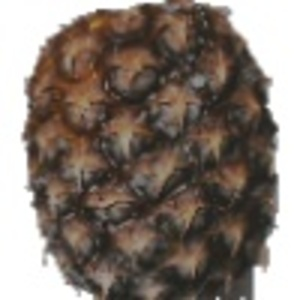abacaxi: (18, 3, 281, 294)
